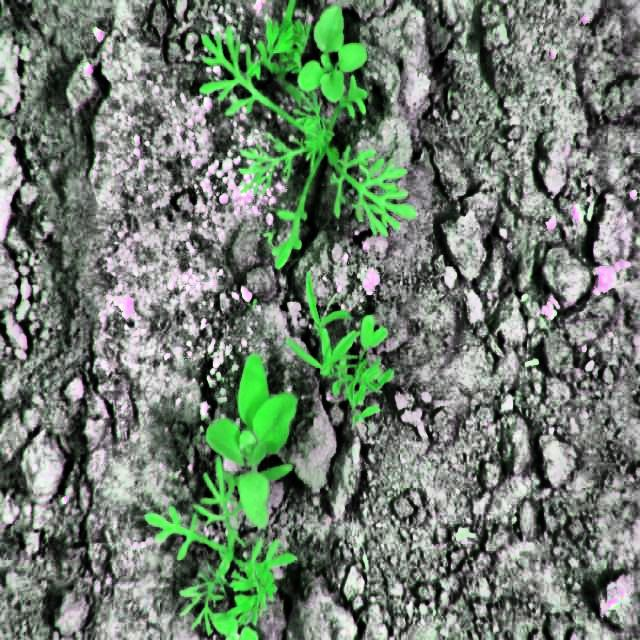Weeds: (206, 350, 306, 526), (299, 6, 366, 100)
undefined: (194, 4, 418, 271), (142, 448, 294, 639), (282, 256, 394, 428)
